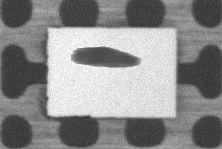DIE_INK: (70, 46, 141, 68)
